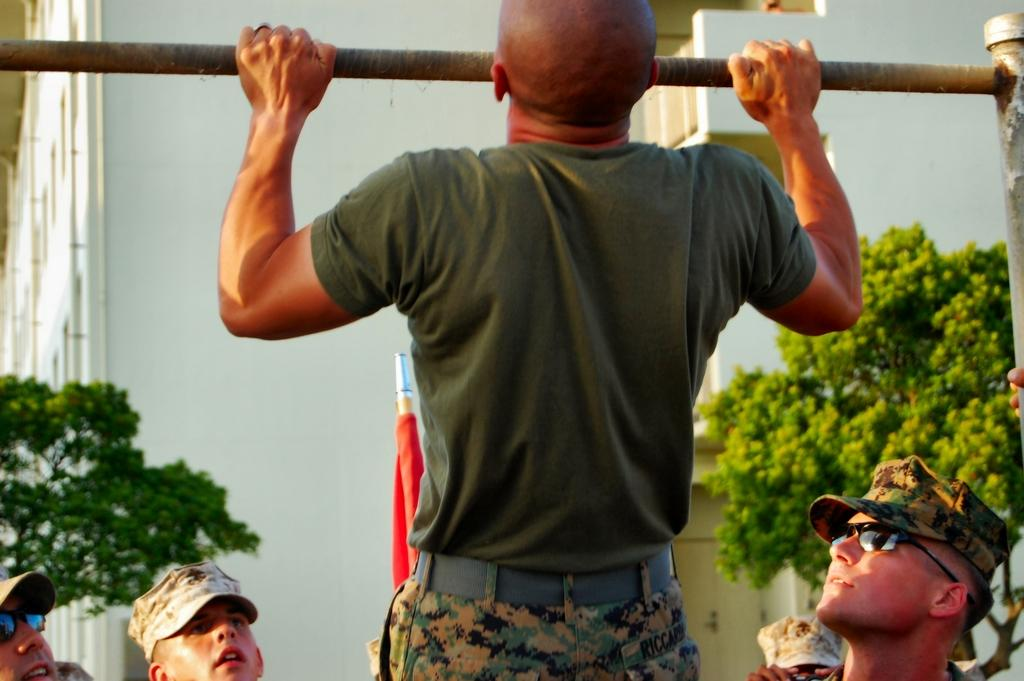Hat: (807, 450, 1008, 576), (125, 560, 256, 661), (757, 614, 843, 670), (0, 571, 53, 613)
